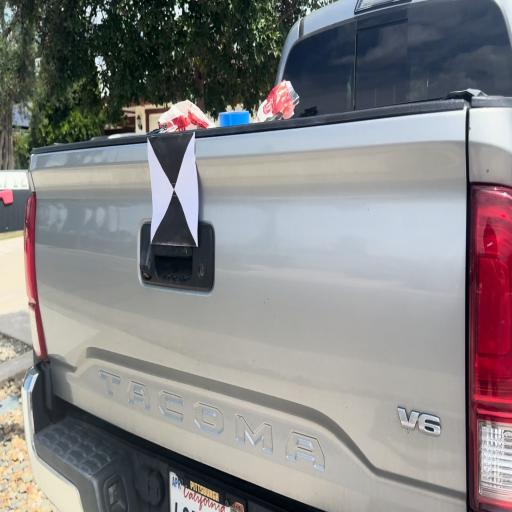target: (149, 133, 198, 245)
